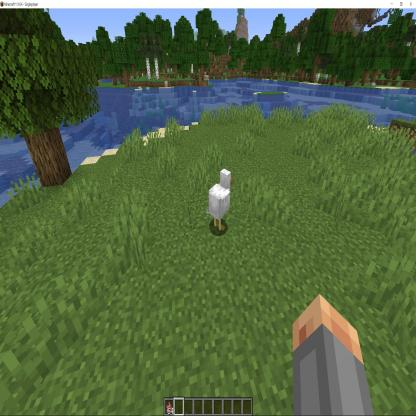minecraft-pigs: (207, 166, 235, 237)
